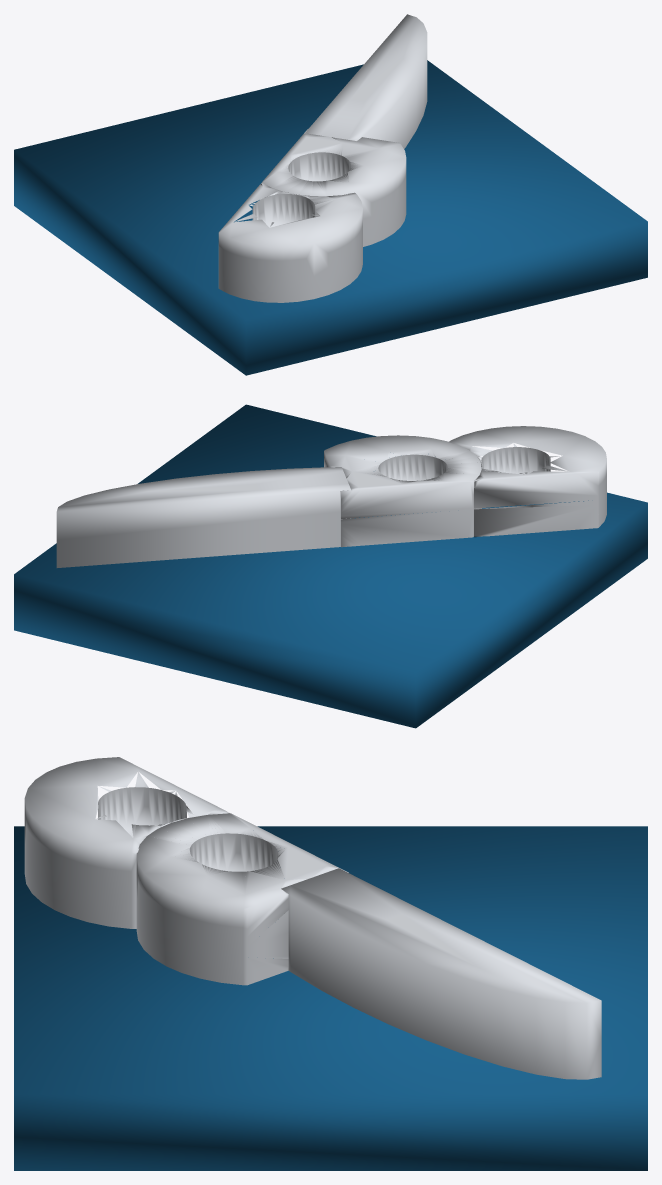
The model's file is w_knife.glb.
The picture shows the model from 3 angles, top to bottom: view 1: azimuth 30°, elevation 25°; view 2: azimuth 150°, elevation 25°; view 3: azimuth 270°, elevation 25°; orthographic projection. The views are drawn at different scales.
Parts seen in each view (by area): view 1: basetta, figura; view 2: basetta, figura; view 3: basetta, figura.
Boxes of the visible parts, bbox=[...] form: basetta: bbox=[14, 60, 647, 375]; figura: bbox=[218, 14, 427, 302]; basetta: bbox=[14, 404, 647, 728]; figura: bbox=[56, 426, 606, 567]; basetta: bbox=[14, 826, 647, 1170]; figura: bbox=[24, 757, 601, 1079].
Size of the model in its own units: 0.015 by 0.004 by 0.015.
